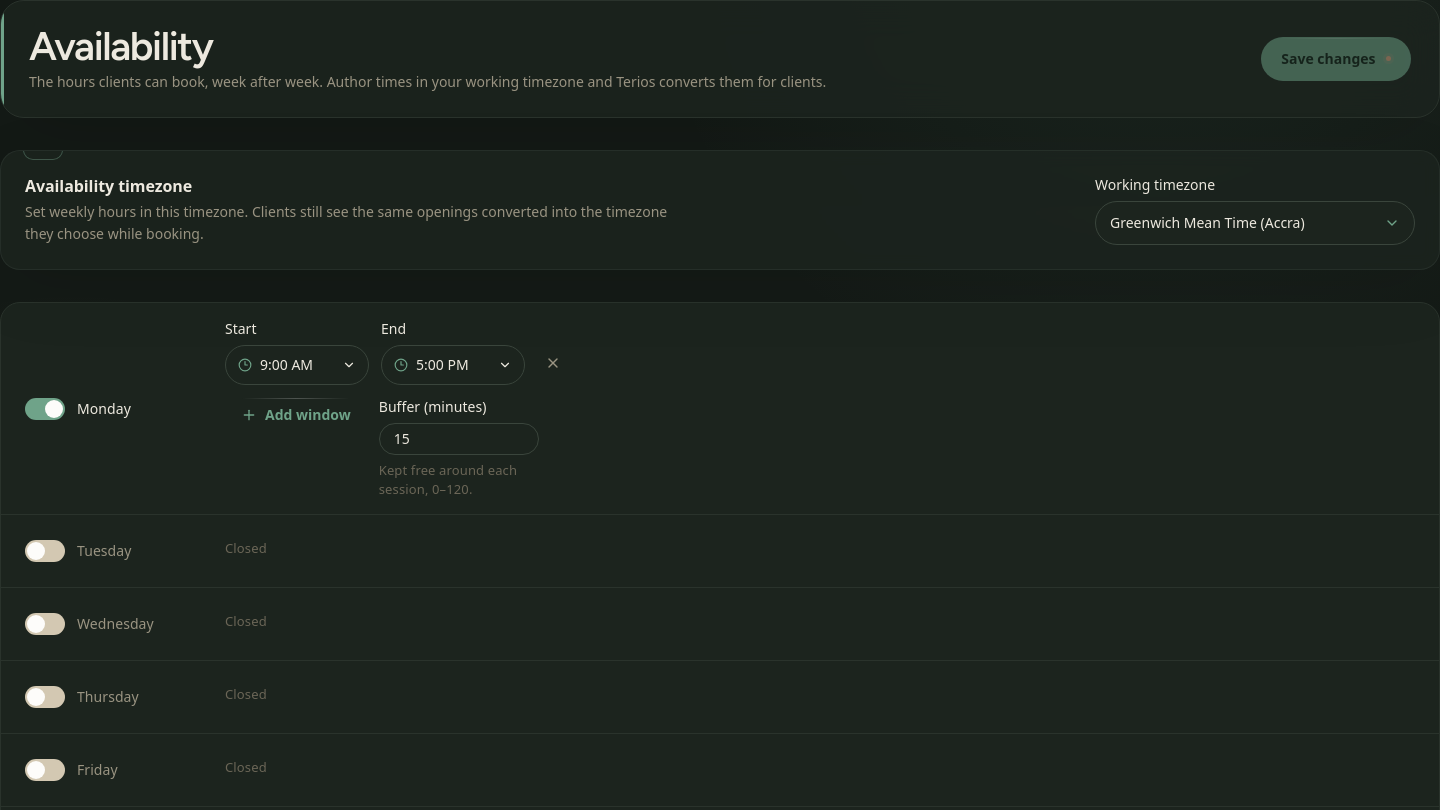
it: AvailabilityPage › adds and removes windows on a day
This screenshot has width=1440, height=810.
Expected: the element "Monday" is shown, [1,303,1439,515]
Step 1. Click the button "Add window" → (296, 415), box [225,397,367,433]
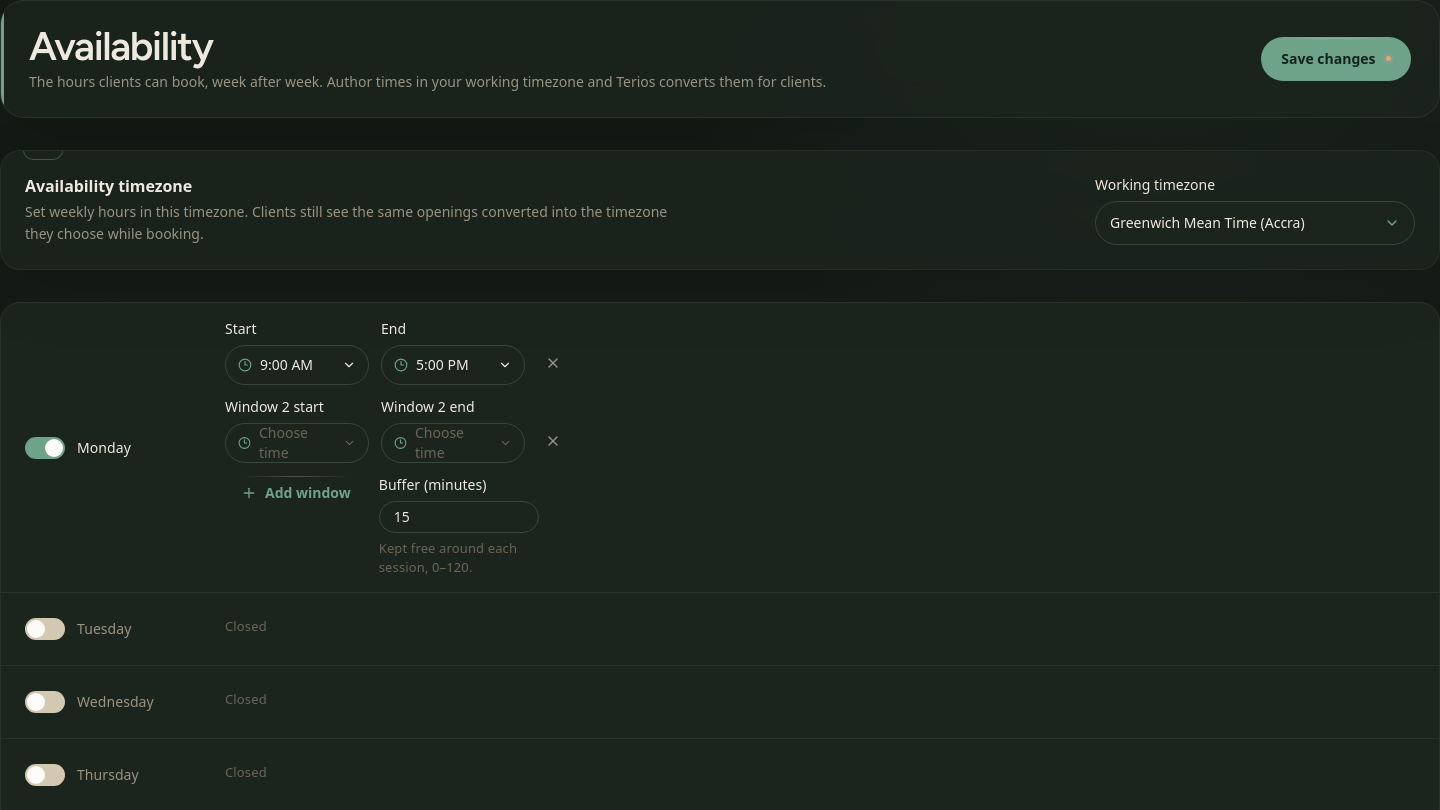
Expected: the button with aria-label "Window 2 start" is shown, [225,423,369,463]
Expected: the button with aria-label "Window 2 end" is shown, [381,423,525,463]
Step 2. Click the button named "Remove window 2 on Monday" → (553, 441), box [537,425,569,457]
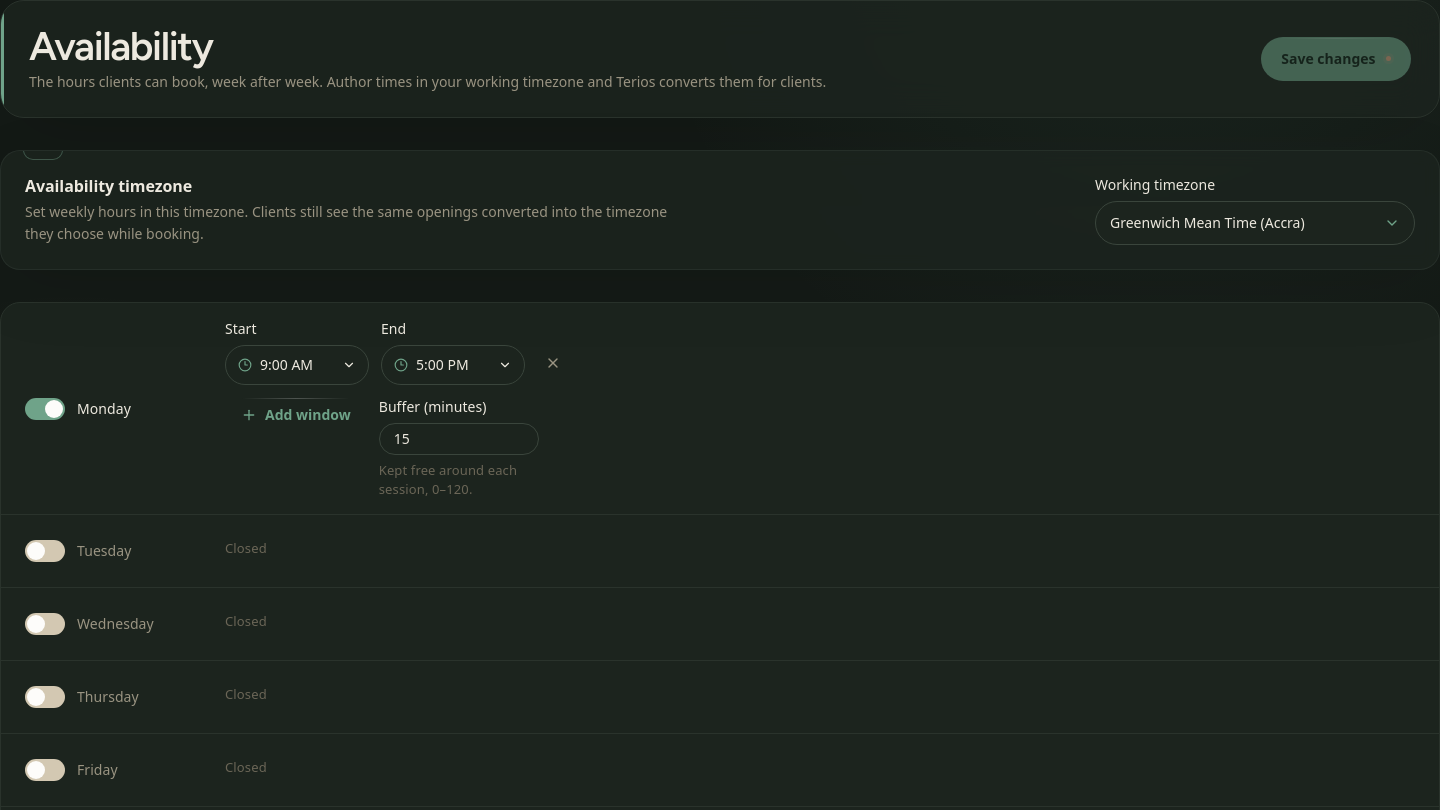
Expected: the label labelled "Window 2 start" is gone
